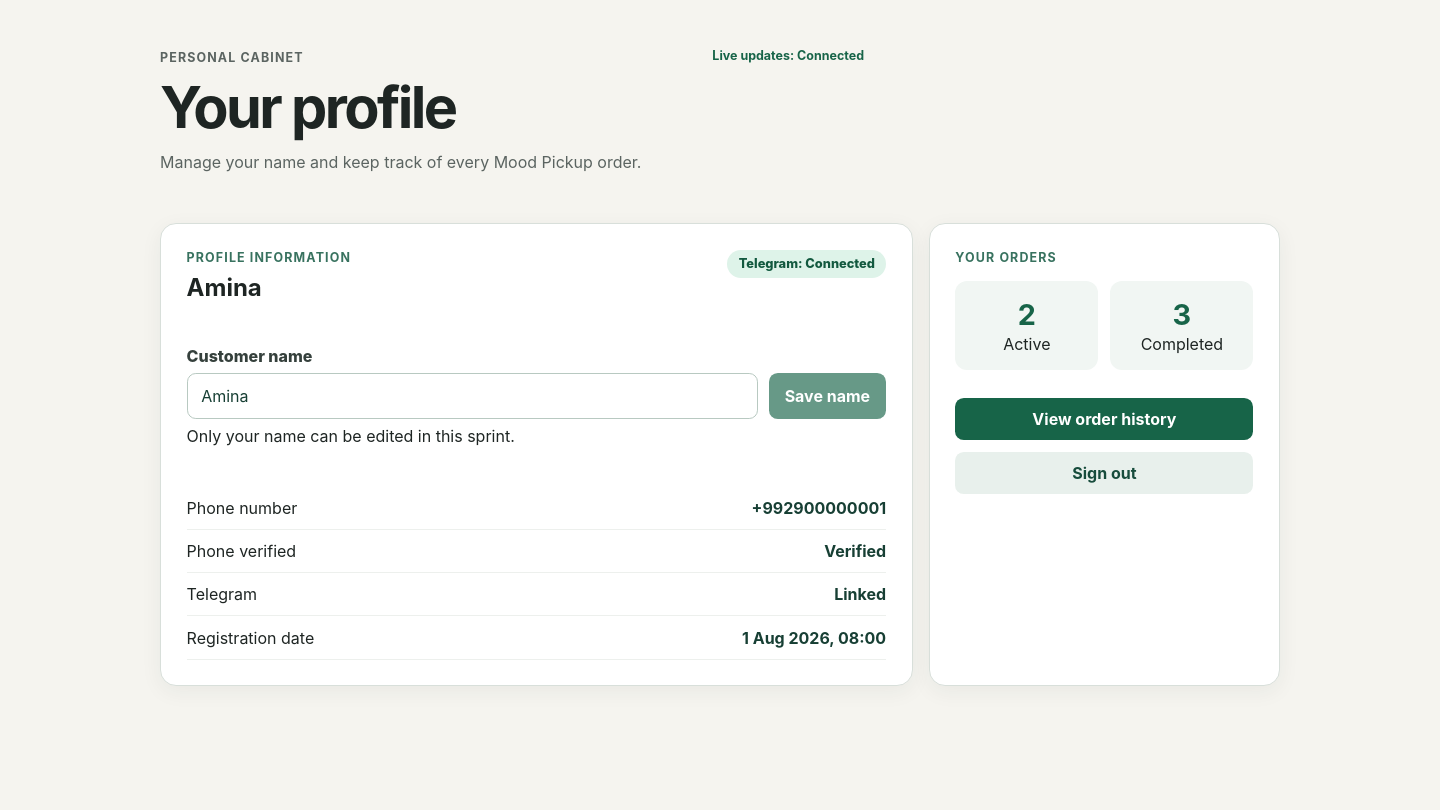
Scenario: customer profile › shows safe account information and edits only the customer name
Expected: the heading "Amina" is shown, [187,273,262,302]
Expected: the text "+992900000001" is shown, [752,498,886,518]
Replace the text in the field labelled "Customer name" with "Updated Customer". click: (472, 396)
box: [187,373,758,419]
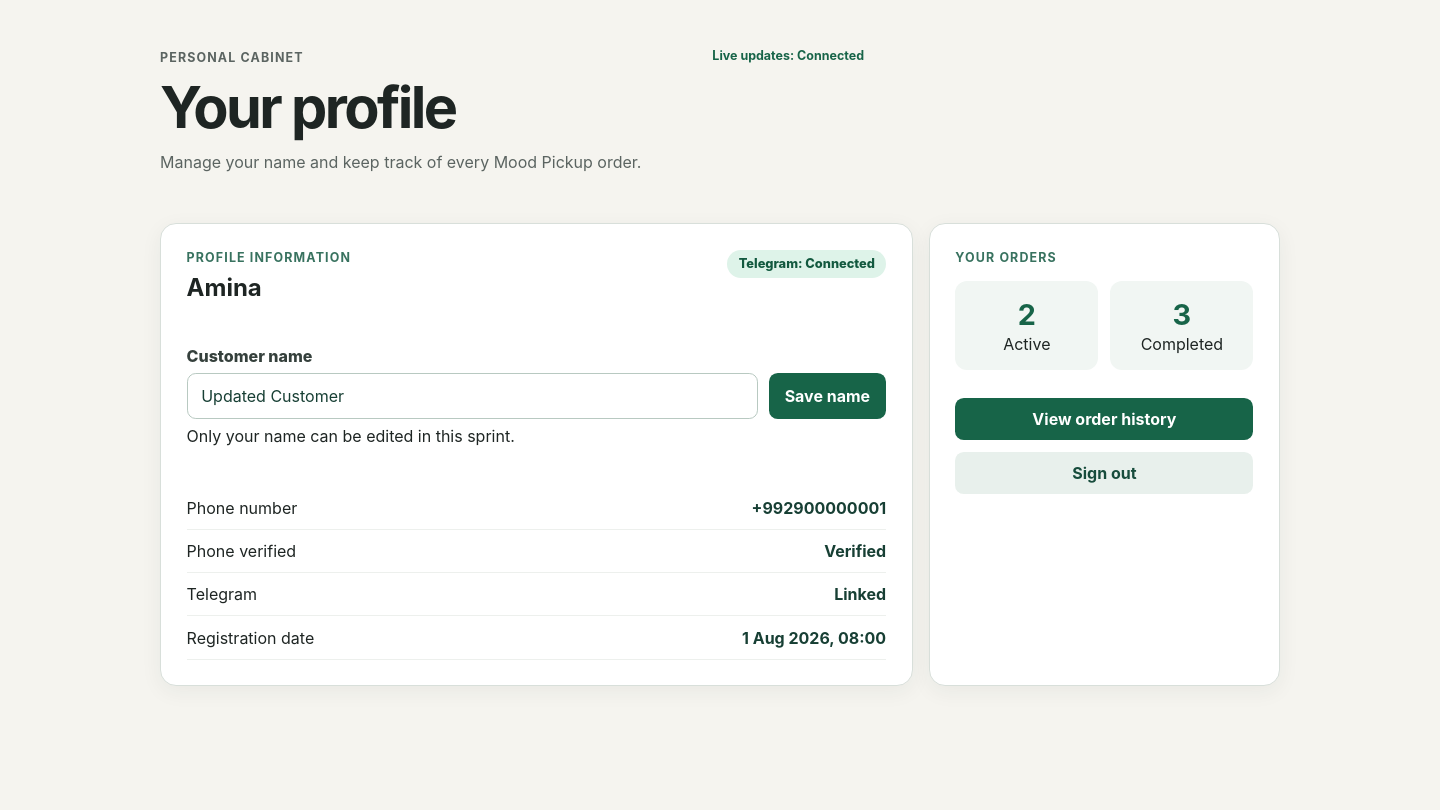
Click the button "Save name". click: (827, 396)
box: [769,373,886,419]
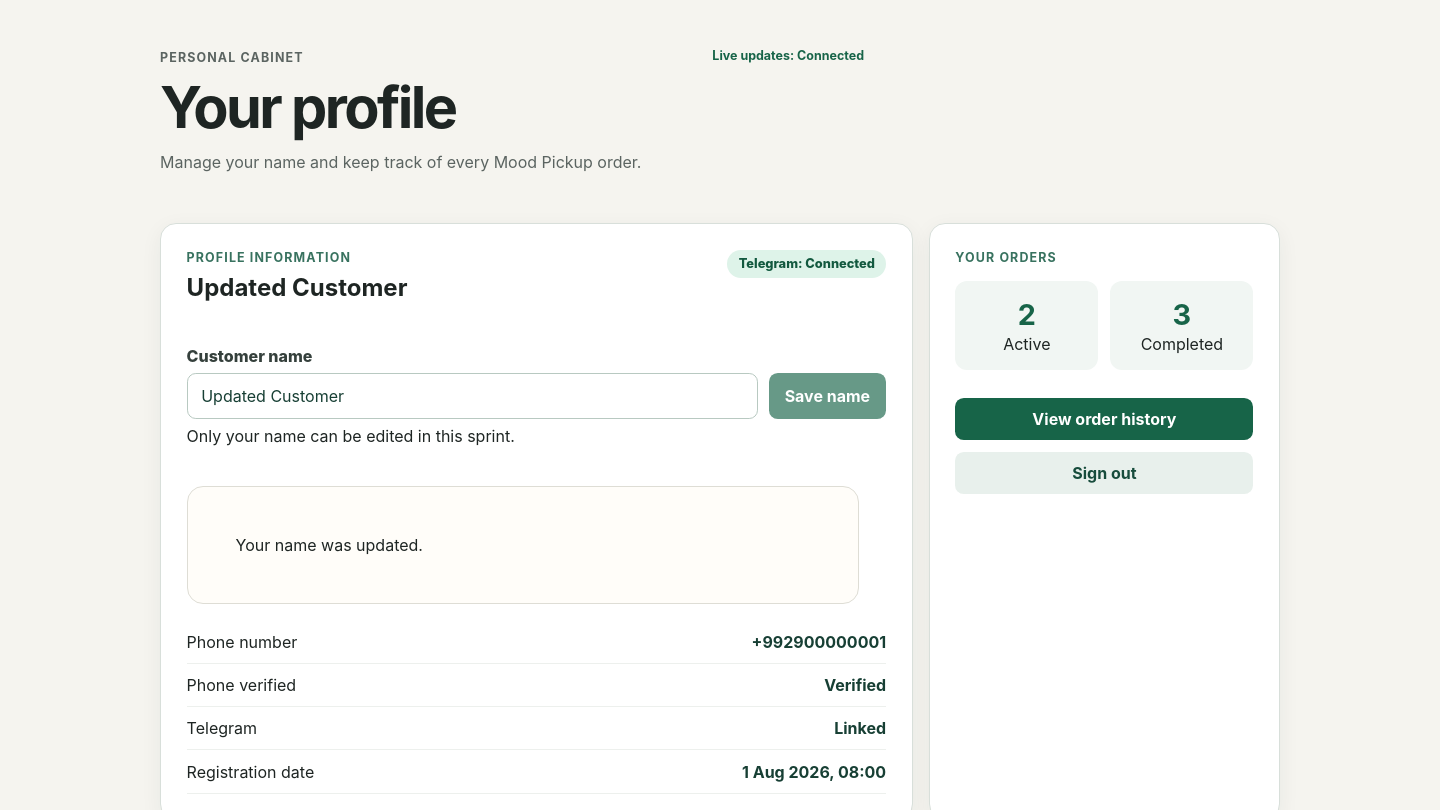
Result: the text "Your name was updated." is shown at [187,486,859,604]
